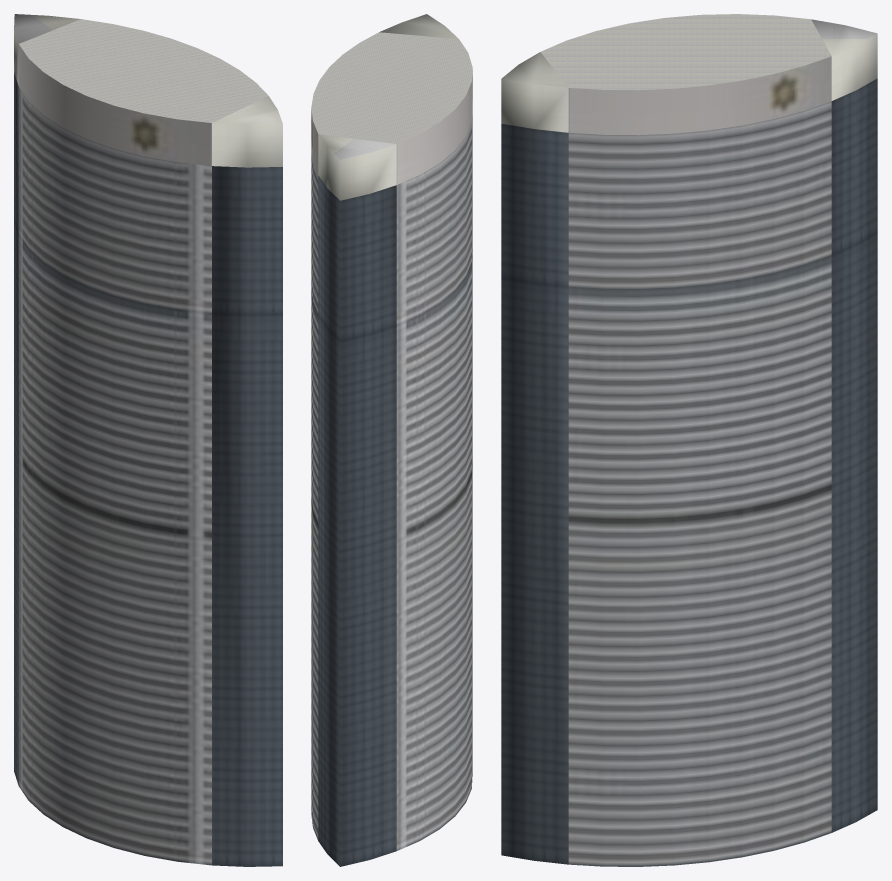
File: Shangri-La_Hotel.dae
3 renders of one model, left to right at view 1: azimuth 30°, elevation 25°; view 2: azimuth 150°, elevation 25°; view 3: azimuth 270°, elevation 25°, orthographic. The views are drawn at different scales.
Parts seen in each view (by area): view 1: _Brown_, _Black_, FrontColor, _Charcoal_, _DarkGoldenrod_; view 2: _Brown_, _Black_, FrontColor, _DarkGoldenrod_, _Charcoal_; view 3: _Brown_, _Black_, FrontColor, _Charcoal_, _DarkGoldenrod_.
Boxes of the visible parts, bbox=[...] form: _Brown_: bbox=[18, 87, 211, 865]; _Black_: bbox=[14, 72, 282, 866]; FrontColor: bbox=[19, 19, 268, 122]; _Charcoal_: bbox=[18, 44, 211, 165]; _DarkGoldenrod_: bbox=[14, 14, 282, 167]; _Brown_: bbox=[311, 111, 472, 850]; _Black_: bbox=[318, 175, 396, 866]; FrontColor: bbox=[311, 32, 472, 143]; _DarkGoldenrod_: bbox=[318, 14, 458, 200]; _Charcoal_: bbox=[311, 70, 472, 184]; _Brown_: bbox=[568, 101, 831, 866]; _Black_: bbox=[501, 78, 877, 864]; FrontColor: bbox=[540, 14, 831, 90]; _Charcoal_: bbox=[568, 56, 831, 135]; _DarkGoldenrod_: bbox=[501, 19, 877, 132].
Bounding box in the file's own units: 60.37 × 126 × 287.
4 materials, 4 textured.
